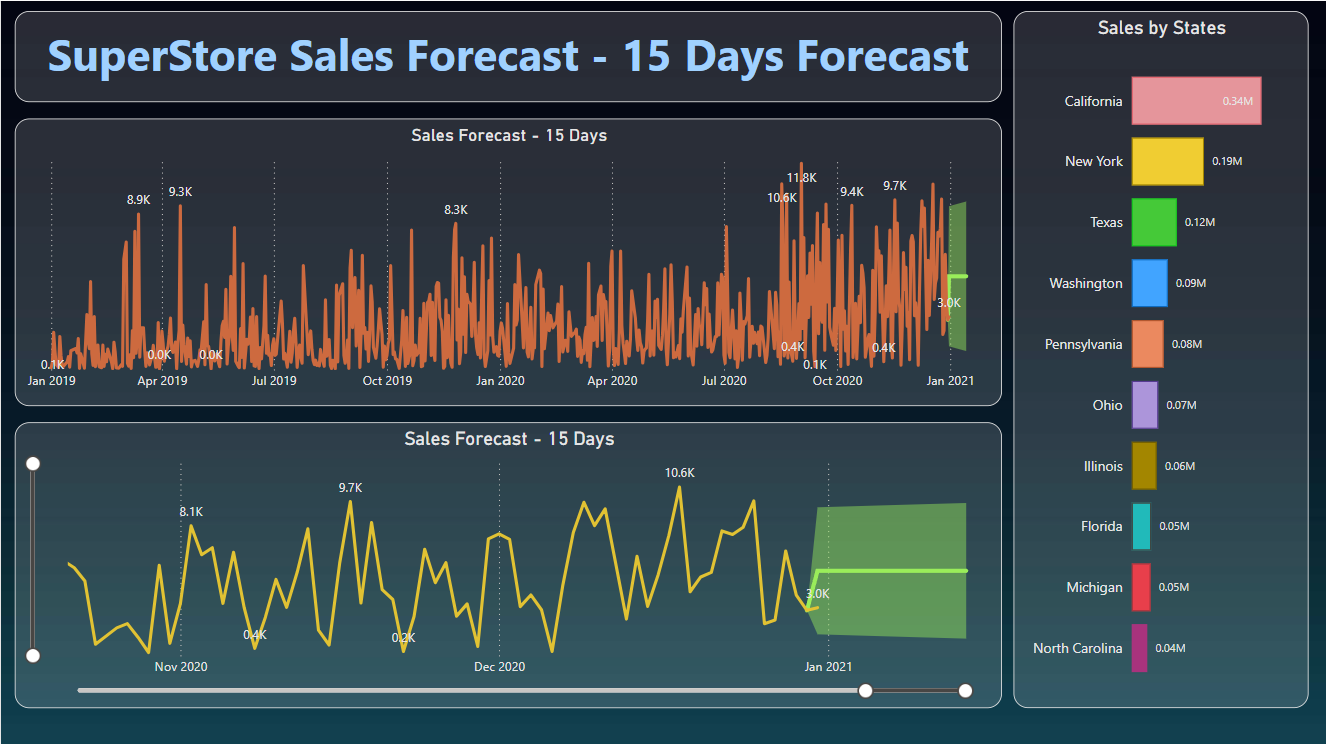

Layout of this report page (visuals, bound fields, positions):
{"tool":"powerbi","page":{"name":"Page 2","canvas":[1280,720],"ordinal":1},"visuals":[{"type":"lineChart","title":"Sales Forecast - 15 Days","fields":{"Y":["Sum(Sheet1.Sales)"],"Category":["Sheet1.Order Date"]},"box":[13.3,113.4,953.1,277.5],"z":0},{"type":"lineChart","title":"Sales Forecast - 15 Days","fields":{"Y":["Sum(Sheet1.Sales)"],"Category":["Sheet1.Order Date"]},"box":[13.3,406.6,953.1,276.3],"z":1000},{"type":"clusteredBarChart","title":"Sales by States","fields":{"Category":["Sheet1.State"],"Y":["Sum(Sheet1.Sales)"]},"box":[977.2,9.7,284.7,673.2],"z":2000},{"type":"textbox","box":[13.3,9.7,953.1,88.1],"z":3000}]}

Visuals, with their boxes in screenshot pixels (x1, y1, x2, y2), scaled from the page's 1280x720 canvas onto the 1326x744 screenshot:
"Sales Forecast - 15 Days" lineChart: crop(14, 117, 1001, 404)
"Sales Forecast - 15 Days" lineChart: crop(14, 420, 1001, 706)
"Sales by States" clusteredBarChart: crop(1012, 10, 1307, 706)
textbox: crop(14, 10, 1001, 101)
